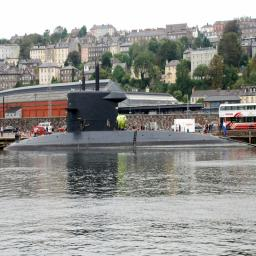submarine: (2, 93, 256, 152)
